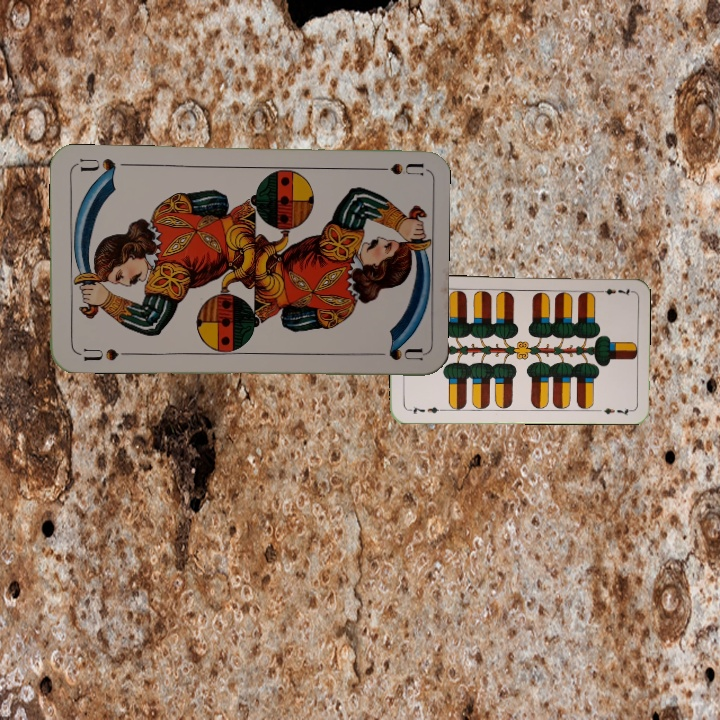E7: (404, 403, 445, 416), (593, 285, 634, 298)
SU: (72, 344, 131, 364), (365, 159, 424, 178)
